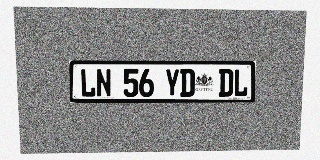5: (123, 69, 139, 97)
6: (139, 69, 154, 97)
D: (180, 69, 195, 97), (218, 69, 233, 97)
L: (80, 69, 96, 97), (233, 69, 248, 97)
N: (96, 69, 112, 97)
Y: (165, 69, 180, 97)
